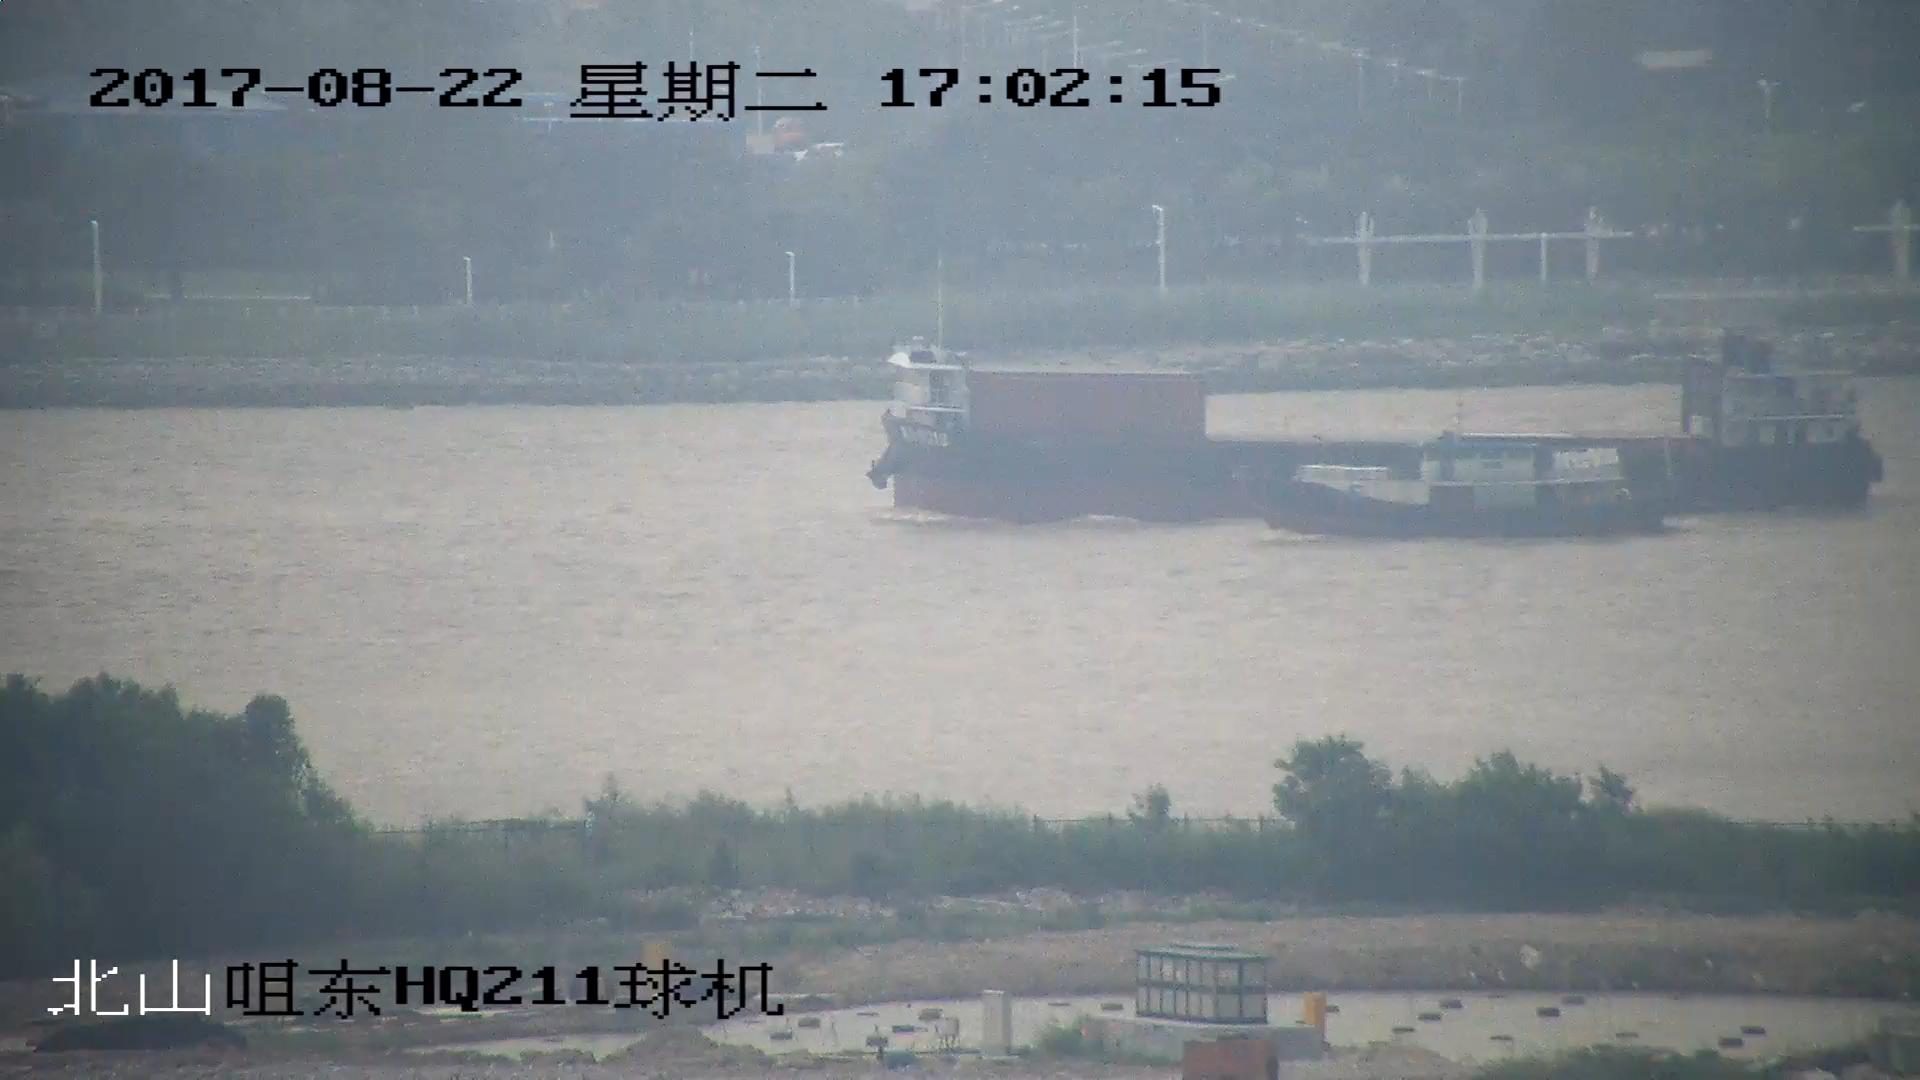fishing boat: (1267, 433, 1678, 542)
general cargo ship: (880, 308, 1876, 510)
